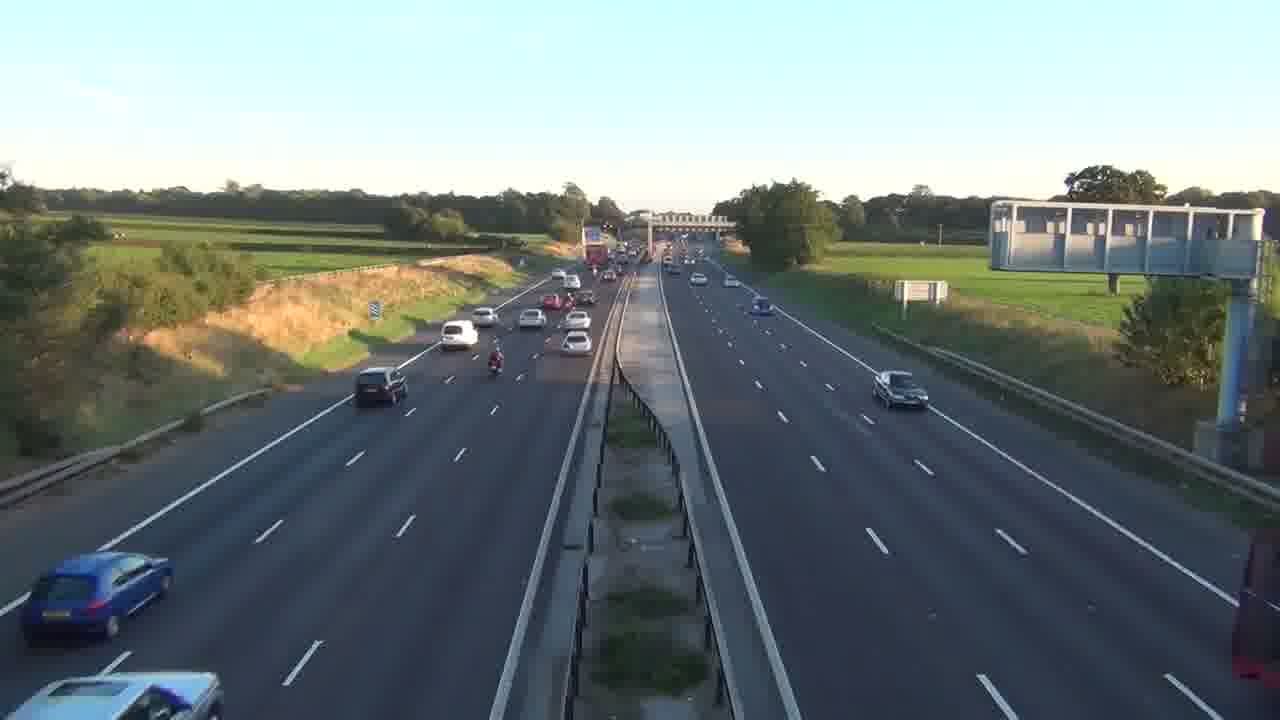car: (872, 369, 929, 409), (353, 367, 407, 407), (560, 330, 593, 356), (472, 306, 499, 326)
truck: (19, 551, 175, 644), (872, 369, 929, 409), (440, 321, 479, 351)
